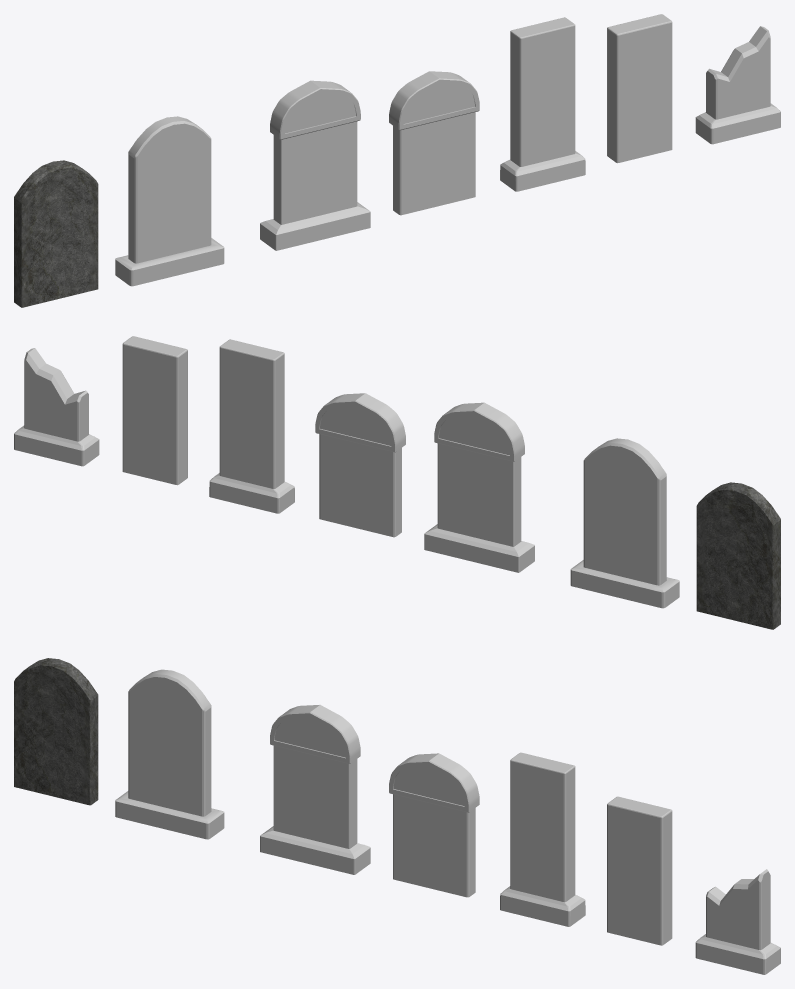
Rendered from Tombstone.fbx.
3 views of the same model, one above another, from view 1: azimuth 30°, elevation 25°; view 2: azimuth 150°, elevation 25°; view 3: azimuth 330°, elevation 25° (orthographic).
Visible parts, largest first — view 1: Tombstone 2, Tombstone 1, Tombstone 5, Tombstone 3, Tombstone 4, Tombstone 6, Tombstone 7; view 2: Tombstone 2, Tombstone 1, Tombstone 5, Tombstone 3, Tombstone 4, Tombstone 6, Tombstone 7; view 3: Tombstone 2, Tombstone 1, Tombstone 5, Tombstone 3, Tombstone 4, Tombstone 6, Tombstone 7.
Boxes of the visible parts, x1,y1,x2,y2 form: Tombstone 2: (260, 80, 370, 250); Tombstone 1: (115, 116, 224, 286); Tombstone 5: (500, 17, 585, 191); Tombstone 3: (14, 160, 98, 307); Tombstone 4: (389, 71, 479, 215); Tombstone 6: (607, 14, 672, 163); Tombstone 7: (695, 26, 780, 144); Tombstone 2: (424, 402, 534, 572); Tombstone 1: (570, 438, 679, 608); Tombstone 5: (209, 339, 294, 513); Tombstone 3: (696, 482, 780, 629); Tombstone 4: (315, 393, 405, 537); Tombstone 6: (122, 336, 187, 485); Tombstone 7: (14, 348, 99, 466); Tombstone 2: (260, 705, 370, 874); Tombstone 1: (115, 669, 224, 839); Tombstone 5: (500, 752, 585, 926); Tombstone 3: (14, 658, 98, 805); Tombstone 4: (389, 753, 479, 897); Tombstone 6: (607, 796, 672, 945); Tombstone 7: (695, 869, 780, 974).
Bounding box in the file's own units: 444 × 84.57 × 17.09.
